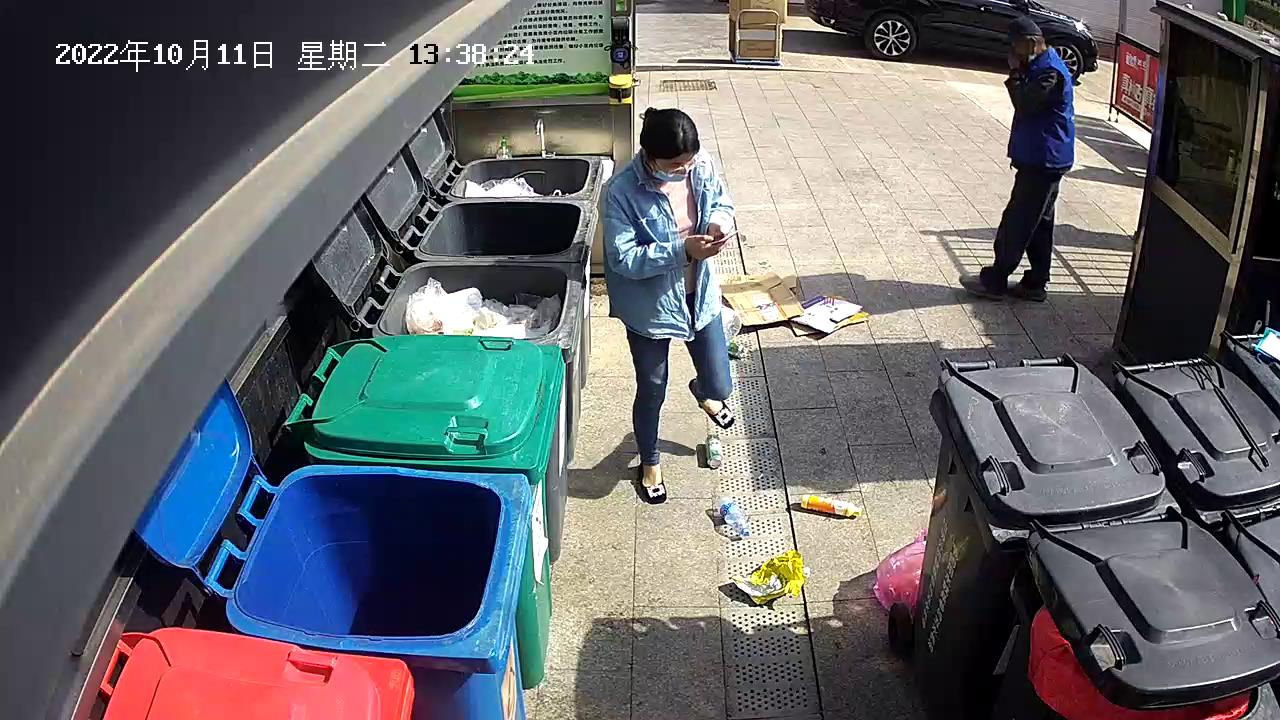garbage: (725, 547, 813, 608)
garbage-bag: (868, 523, 934, 611)
lvzhipin: (702, 429, 727, 472)
suliaozhipin: (713, 491, 756, 542), (797, 490, 866, 521)
worker: (597, 106, 743, 506), (953, 12, 1082, 306)
zhizhipin: (714, 267, 808, 332), (785, 290, 879, 341)
